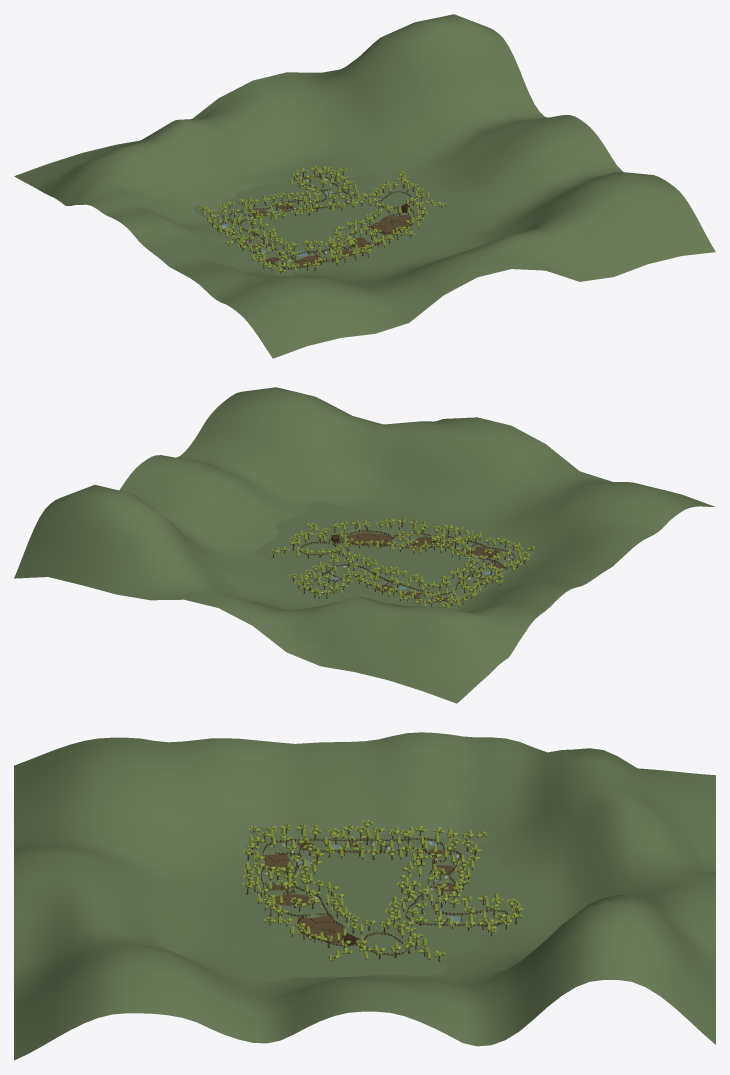
The model's file is Mapfinaljecrois (2).fbx.
3 views of the same model, one above another, from view 1: azimuth 30°, elevation 25°; view 2: azimuth 150°, elevation 25°; view 3: azimuth 270°, elevation 25° (orthographic). The views are drawn at different scales.
Parts seen in each view (by area): view 1: polySurface4791; view 2: polySurface4791; view 3: polySurface4791.
Part boxes in pixels (bbox=[...]): polySurface4791: bbox=[14, 14, 715, 358]; polySurface4791: bbox=[14, 387, 714, 703]; polySurface4791: bbox=[14, 732, 715, 1060].
Size of the model in its own units: 194 by 37.7 by 197.
